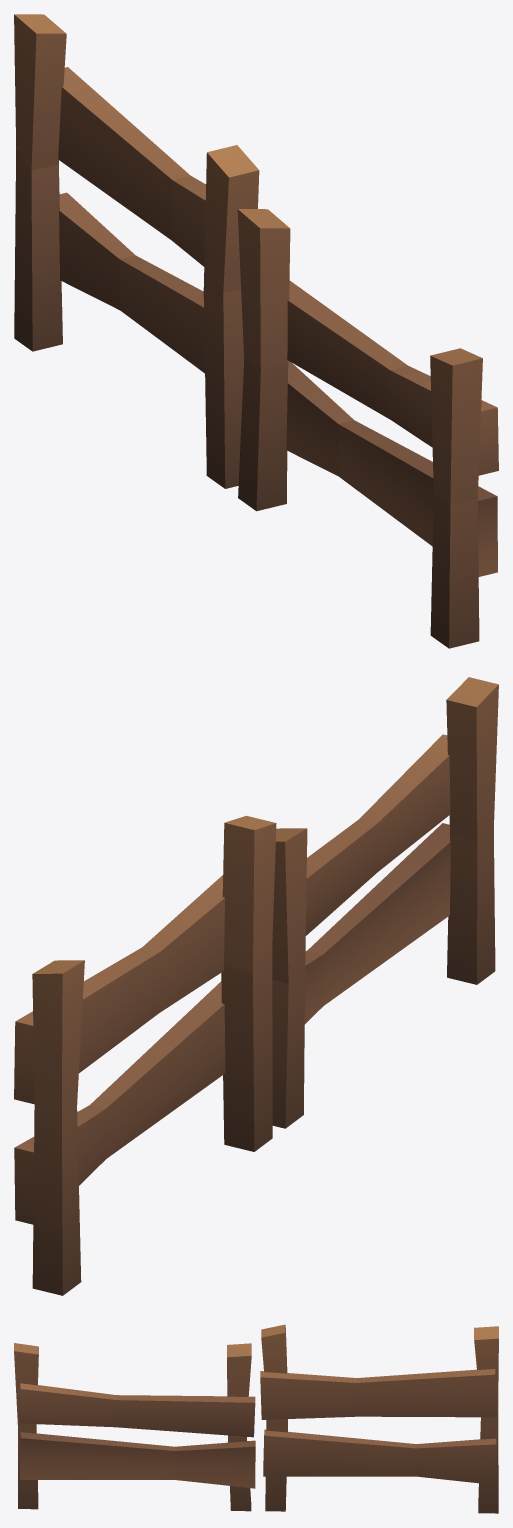
File: Fence.fbx
3 renders of one model, top to bottom at view 1: azimuth 30°, elevation 25°; view 2: azimuth 150°, elevation 25°; view 3: azimuth 270°, elevation 25°, orthographic. The views are drawn at different scales.
Visible parts, largest first — view 1: Fence; view 2: Fence; view 3: Fence.
Boxes of the visible parts, box(x1,y1,x2,y2) form: Fence: box(14, 14, 498, 648); Fence: box(14, 677, 498, 1295); Fence: box(14, 1324, 498, 1513).
Bounding box in the file's own units: 25.57 × 155 × 377.
